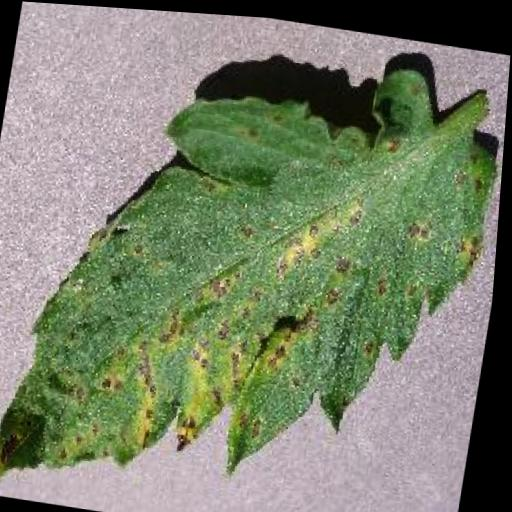Septoria: (0, 12, 511, 512)
